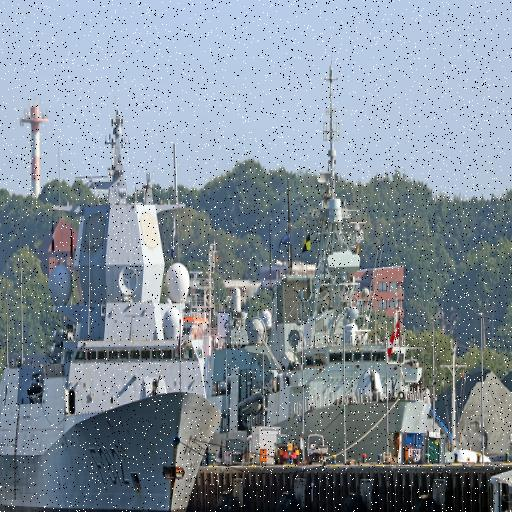Fragata: (1, 94, 228, 512)
